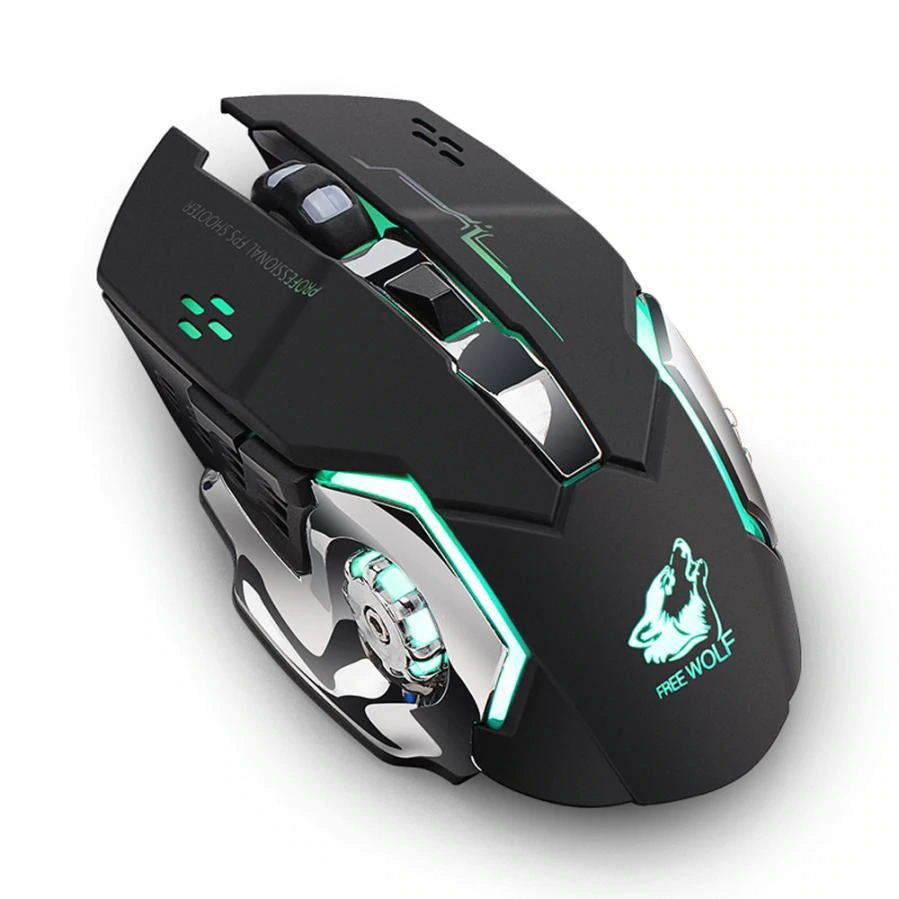mouse: (64, 55, 811, 845)
